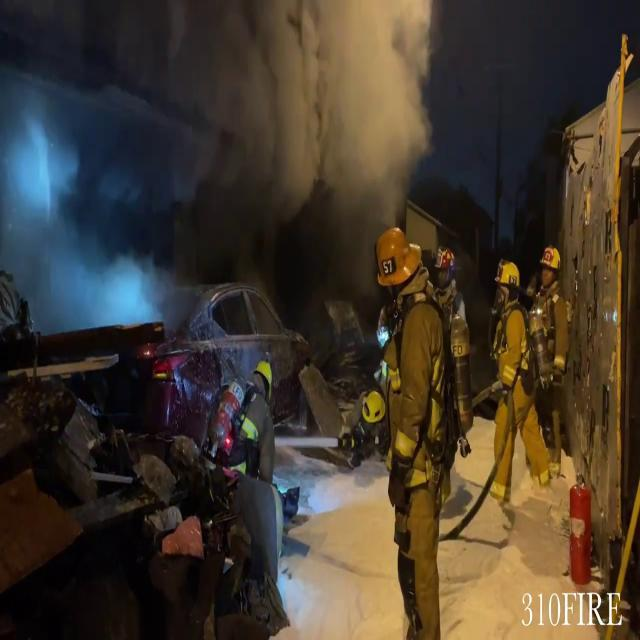Smoke: (0, 0, 434, 300)
